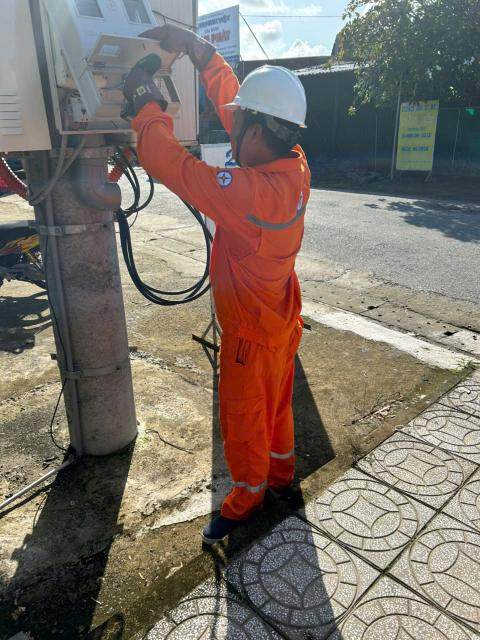harness: (140, 18, 229, 81), (112, 31, 171, 120)
helmet: (207, 45, 325, 135)
shoes: (200, 504, 250, 546)
